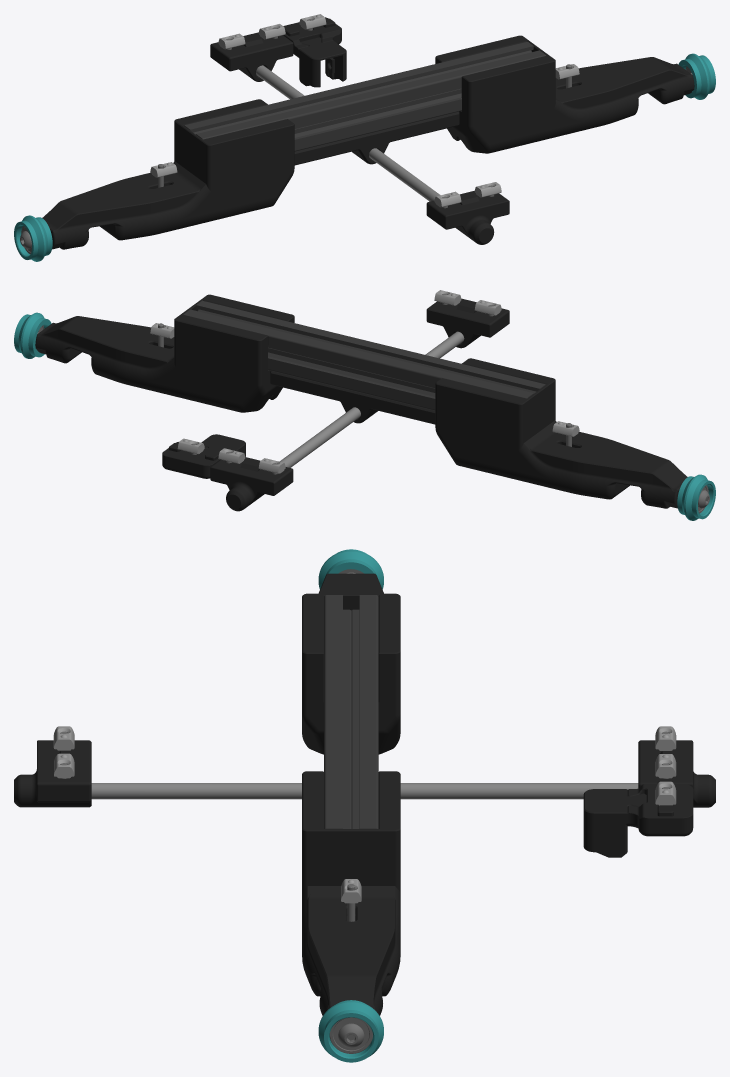
The model's file is bed_wheels.glb.
3 views of the same model, one above another, from view 1: azimuth 30°, elevation 25°; view 2: azimuth 150°, elevation 25°; view 3: azimuth 270°, elevation 25° (orthographic). The views are drawn at different scales.
Visible parts, largest first — view 1: Wheel Wing - Print-2 - Part, Wheel Wing - Print-2 2 - Part, HFSB5-2020-202-1 - Part, Bed Pivot Axle Mount Middle - Print-1 - Part, Bed Pivot Axle Mount Endcap - Print-1 - Part, Bed Pivot Axle Mount Endcap - Print-1 2 - Part, Body - Part 563, M6x250 Smooth Rod - Stainless or Chrome-1 - Part, Bed Wheel - Print-2 - Part, Bed Wheel - Print-2 2 - Part, Body 601 - Part; view 2: Wheel Wing - Print-2 - Part, Wheel Wing - Print-2 2 - Part, HFSB5-2020-202-1 - Part, Bed Pivot Axle Mount Middle - Print-1 - Part, Bed Pivot Axle Mount Endcap - Print-1 2 - Part, Bed Pivot Axle Mount Endcap - Print-1 - Part, M6x250 Smooth Rod - Stainless or Chrome-1 - Part, Body 601 - Part, Bed Wheel - Print-2 - Part, Bed Wheel - Print-2 2 - Part, Body - Part 563; view 3: Wheel Wing - Print-2 2 - Part, HFSB5-2020-202-1 - Part, Wheel Wing - Print-2 - Part, M6x250 Smooth Rod - Stainless or Chrome-1 - Part, Bed Pivot Axle Mount Endcap - Print-1 - Part, Body - Part 563, Body 601 - Part, Bed Pivot Axle Mount Endcap - Print-1 2 - Part, Bed Wheel - Print-2 2 - Part, Bed Wheel - Print-2 - Part, 625 2RS Bearing (1)-2 2 - Part.
Boxes of the visible parts, <box> form: Wheel Wing - Print-2 - Part: <box>42,99,294,249</box>; Wheel Wing - Print-2 2 - Part: <box>435,35,694,153</box>; HFSB5-2020-202-1 - Part: <box>184,41,546,151</box>; Bed Pivot Axle Mount Middle - Print-1 - Part: <box>294,111,459,165</box>; Bed Pivot Axle Mount Endcap - Print-1 - Part: <box>426,190,509,244</box>; Bed Pivot Axle Mount Endcap - Print-1 2 - Part: <box>210,32,293,81</box>; Body - Part 563: <box>298,37,346,87</box>; M6x250 Smooth Rod - Stainless or Chrome-1 - Part: <box>256,65,440,201</box>; Bed Wheel - Print-2 - Part: <box>14,215,52,261</box>; Bed Wheel - Print-2 2 - Part: <box>678,53,715,99</box>; Body 601 - Part: <box>283,17,341,57</box>; Wheel Wing - Print-2 - Part: <box>435,358,687,508</box>; Wheel Wing - Print-2 2 - Part: <box>35,294,294,412</box>; HFSB5-2020-202-1 - Part: <box>183,300,546,410</box>; Bed Pivot Axle Mount Middle - Print-1 - Part: <box>270,370,435,424</box>; Bed Pivot Axle Mount Endcap - Print-1 2 - Part: <box>210,457,293,511</box>; Bed Pivot Axle Mount Endcap - Print-1 - Part: <box>426,298,509,348</box>; M6x250 Smooth Rod - Stainless or Chrome-1 - Part: <box>279,331,464,467</box>; Body 601 - Part: <box>162,442,220,478</box>; Bed Wheel - Print-2 - Part: <box>677,474,715,520</box>; Bed Wheel - Print-2 2 - Part: <box>14,312,51,358</box>; Body - Part 563: <box>201,434,245,456</box>; Wheel Wing - Print-2 2 - Part: <box>302,771,400,1015</box>; HFSB5-2020-202-1 - Part: <box>324,595,378,828</box>; Wheel Wing - Print-2 - Part: <box>302,573,400,754</box>; M6x250 Smooth Rod - Stainless or Chrome-1 - Part: <box>91,783,638,799</box>; Bed Pivot Axle Mount Endcap - Print-1 - Part: <box>14,740,91,807</box>; Body - Part 563: <box>583,789,646,857</box>; Body 601 - Part: <box>627,781,693,836</box>; Bed Pivot Axle Mount Endcap - Print-1 2 - Part: <box>638,740,715,807</box>; Bed Wheel - Print-2 2 - Part: <box>318,1000,383,1062</box>; Bed Wheel - Print-2 - Part: <box>318,549,383,589</box>; 625 2RS Bearing (1)-2 2 - Part: <box>329,1017,372,1053</box>.
Size of the model in its own units: 0.4027 by 0.0501 by 0.2567.
